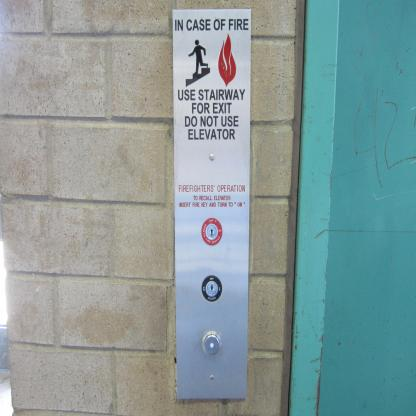empty: (200, 329, 223, 357)
keyhole: (200, 216, 223, 247), (200, 274, 223, 303)
